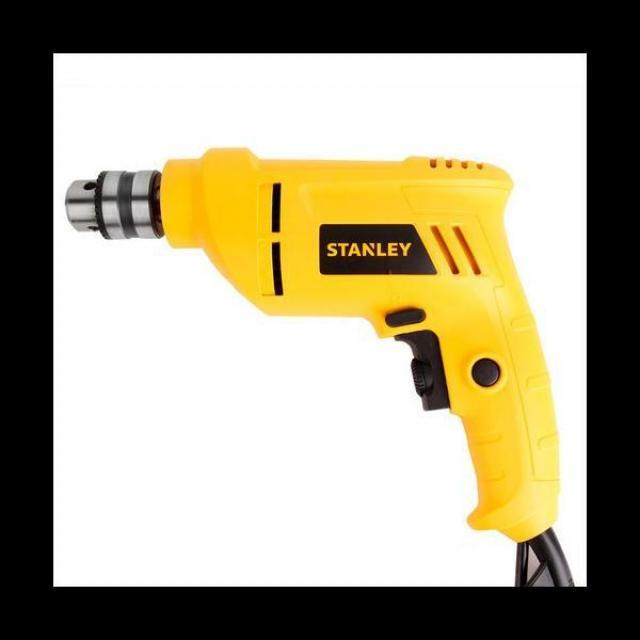drill: (65, 148, 578, 588)
